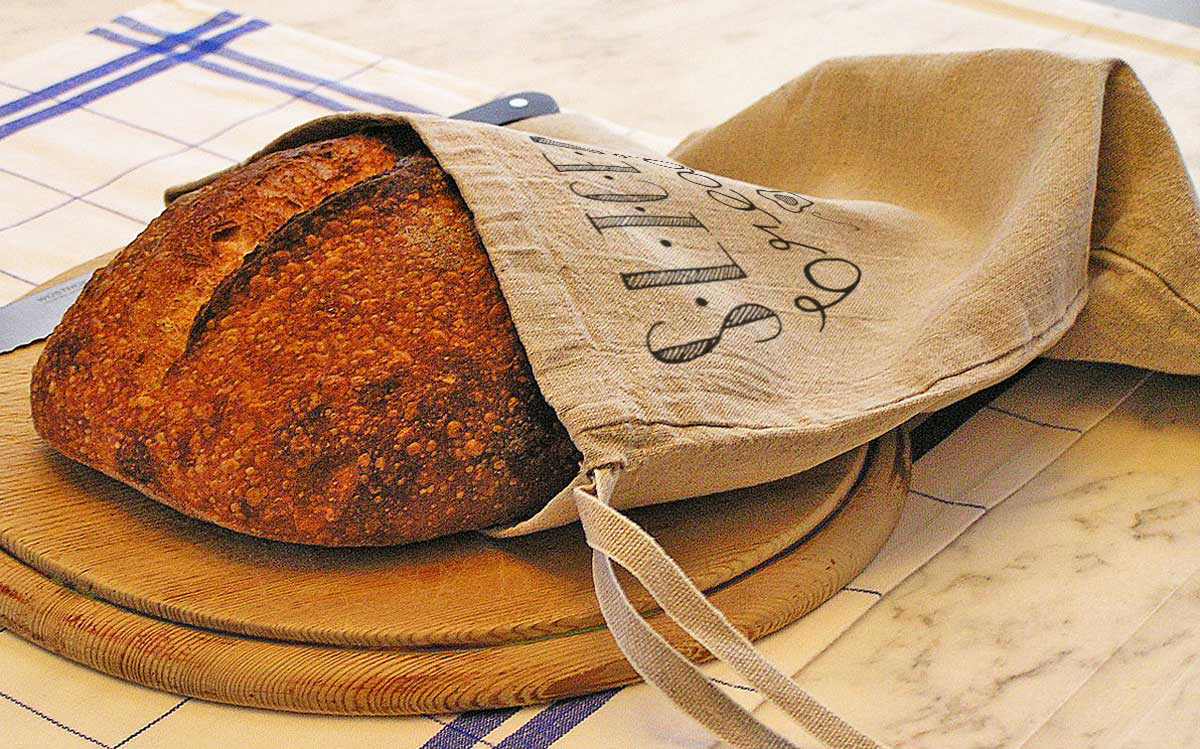slice of bread: (40, 137, 536, 530)
